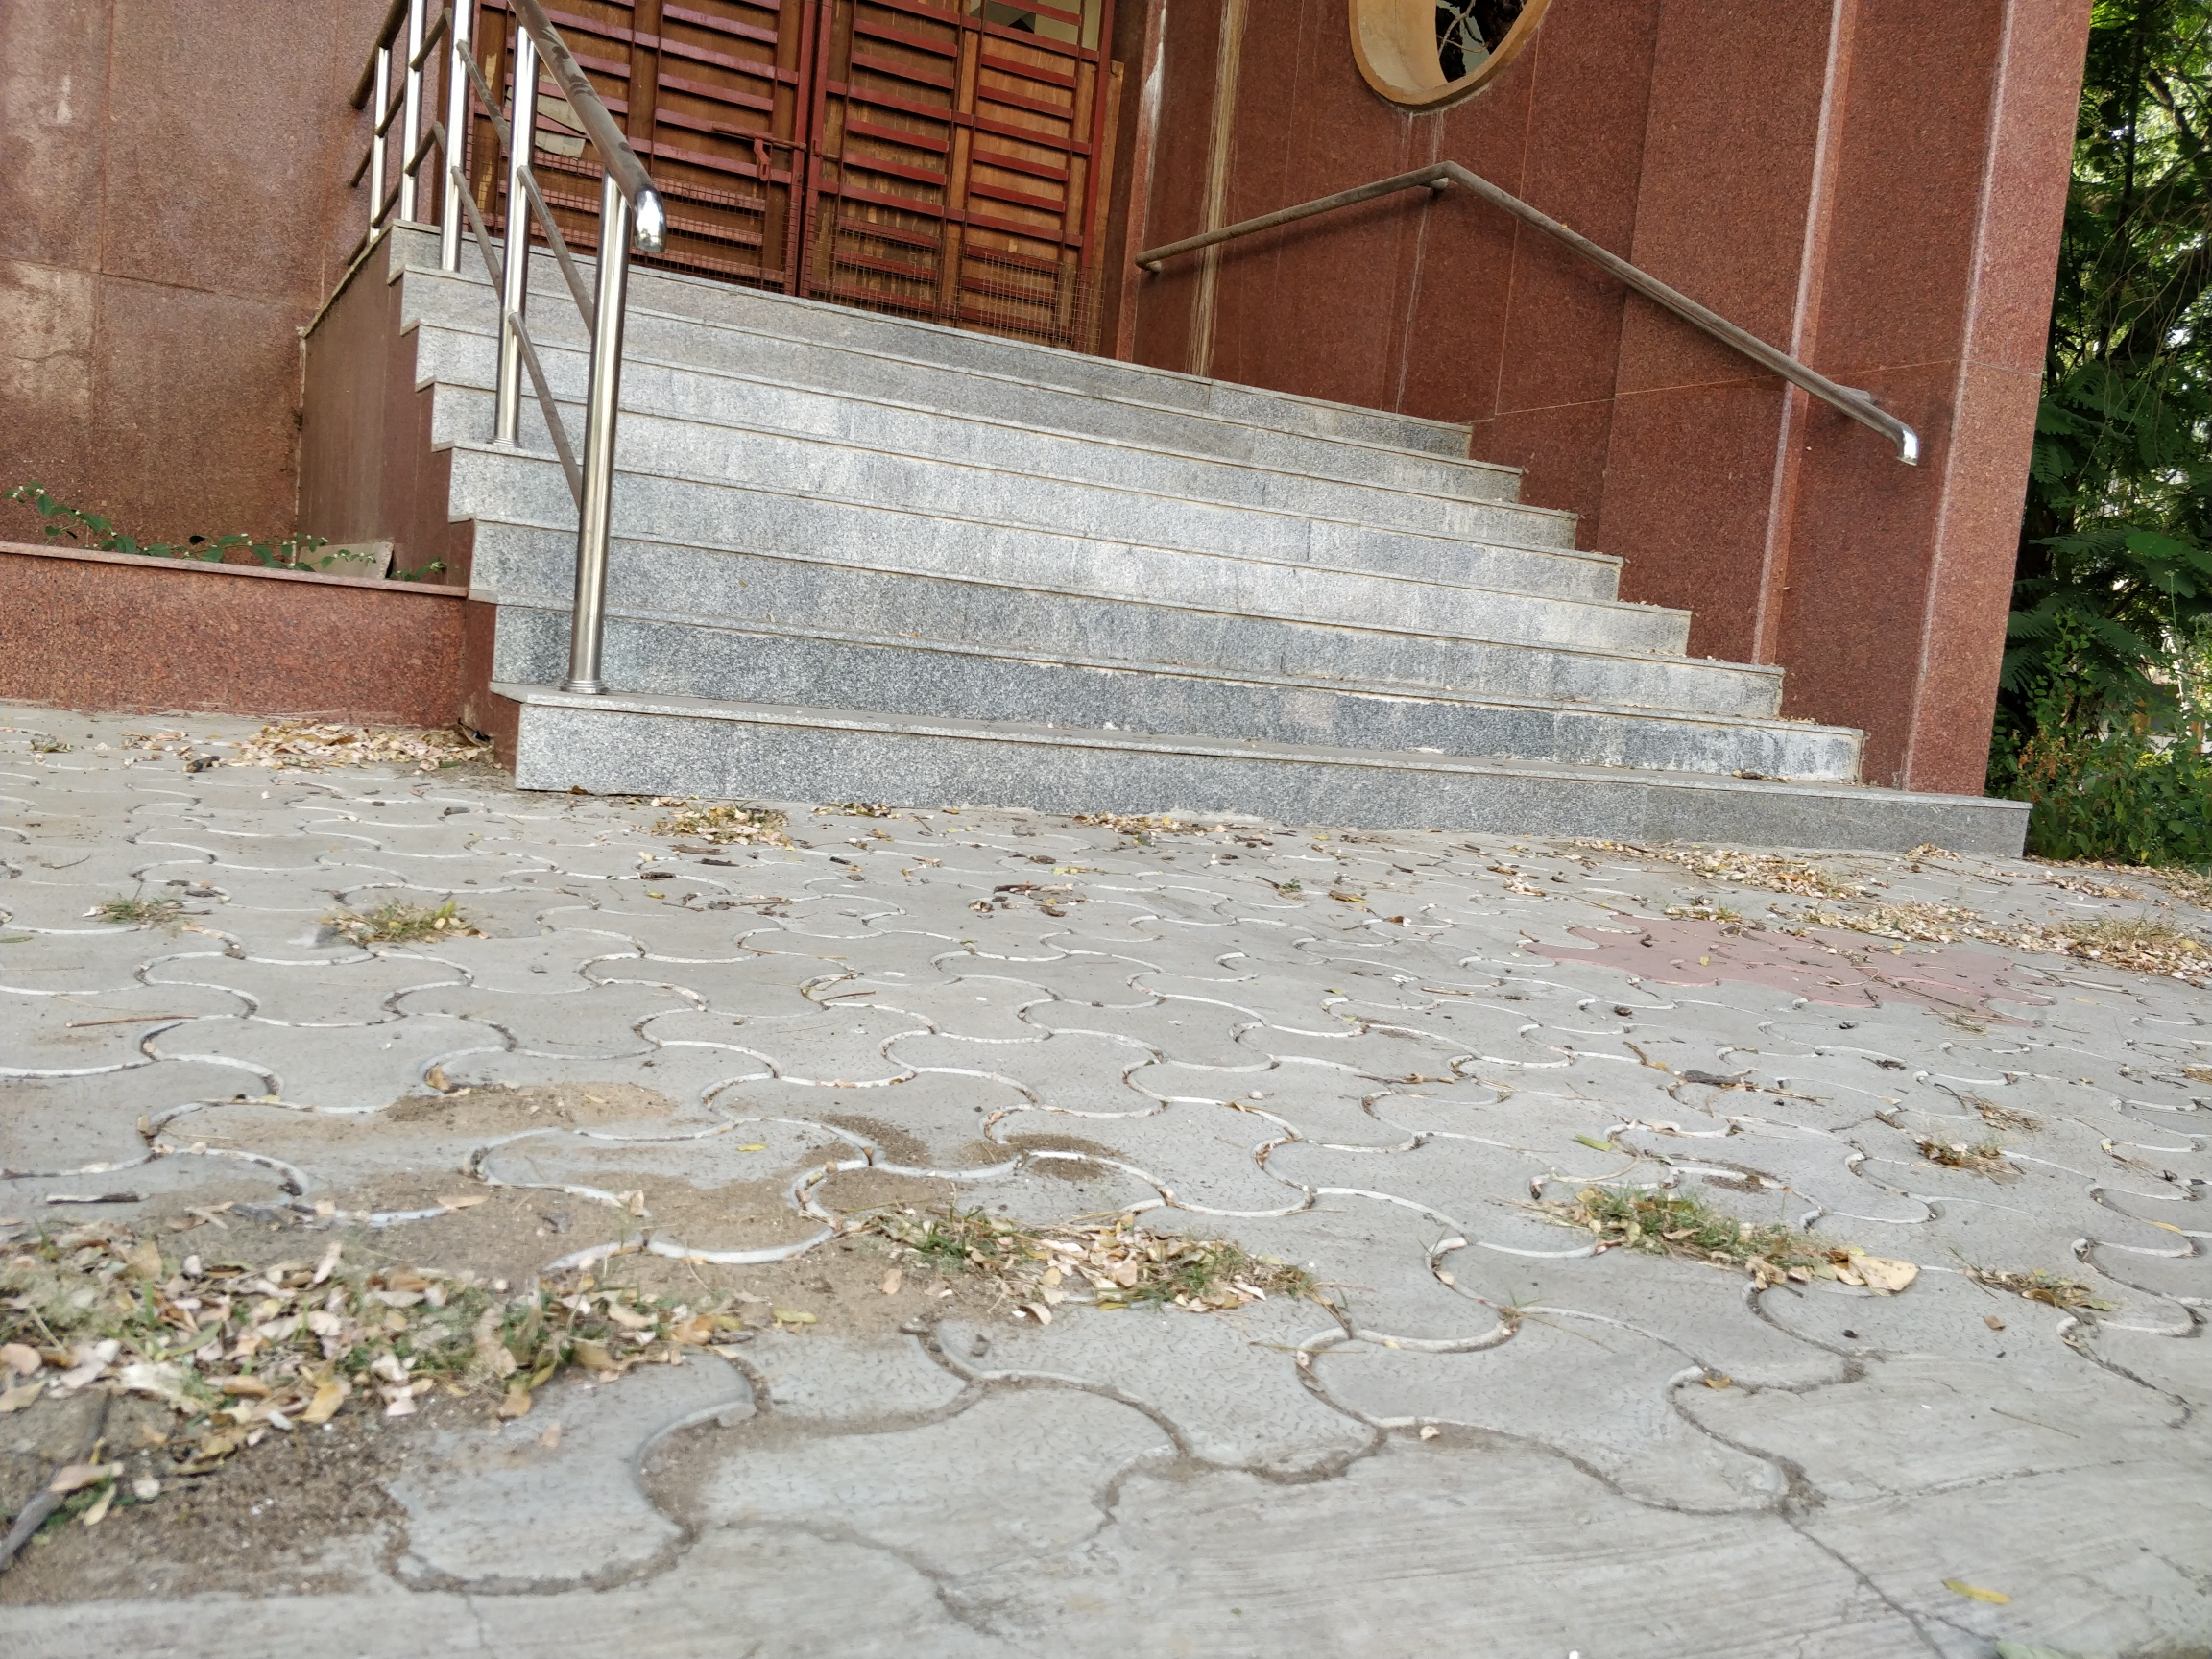stairs_up: (395, 185, 1902, 863)
